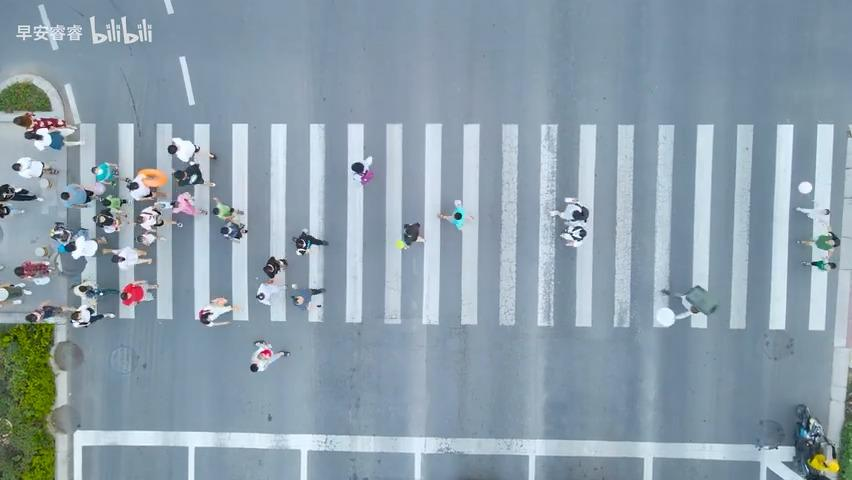Civilian: (793, 403, 839, 479), (795, 205, 840, 271), (12, 111, 76, 151), (167, 136, 216, 187), (5, 249, 52, 298), (659, 284, 718, 321), (52, 177, 100, 222), (548, 196, 589, 247), (86, 161, 137, 199), (103, 234, 152, 273), (68, 305, 116, 342), (45, 219, 87, 258), (255, 256, 288, 305), (211, 196, 247, 240), (11, 156, 59, 188), (119, 276, 157, 316), (65, 269, 108, 304), (123, 168, 167, 201), (249, 339, 290, 372), (198, 296, 241, 327), (90, 207, 132, 238), (66, 230, 102, 263), (436, 199, 474, 230), (291, 228, 329, 256), (170, 191, 207, 216), (290, 286, 325, 311), (143, 202, 168, 237), (396, 221, 425, 250), (796, 231, 840, 250), (350, 155, 374, 184), (262, 255, 287, 279), (801, 259, 836, 271)
